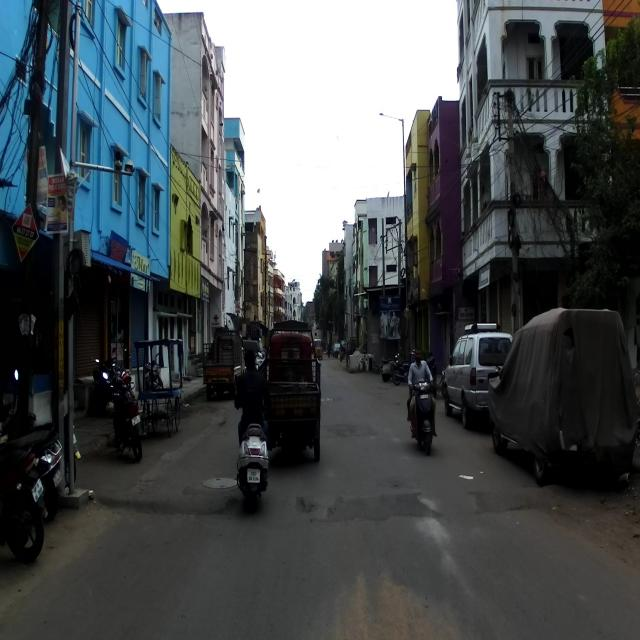Car: (488, 306, 635, 486)
Car_Chevrolet: (443, 322, 513, 429)
autorickshaw: (263, 318, 322, 465)
motorcycle_Hero: (105, 372, 147, 462)
scooter: (0, 400, 62, 522), (233, 402, 270, 514), (406, 376, 437, 454)
